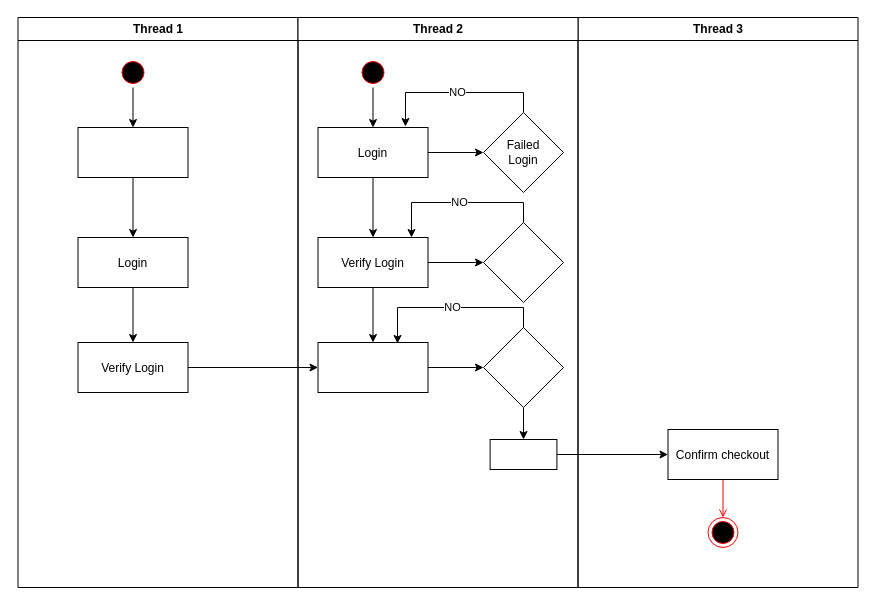
The diagram is 875 pixels wide and 605 high, and some of its shapes have lost their labels. The shapes that lost their labels are listed below. From the top down, each one's centre as x and y in pixels, then its label:
point (132, 152): Signup
point (523, 262): Failed Verification
point (372, 367): Add Item to Cart
point (523, 367): Continue to checkout
point (523, 454): Checkout
